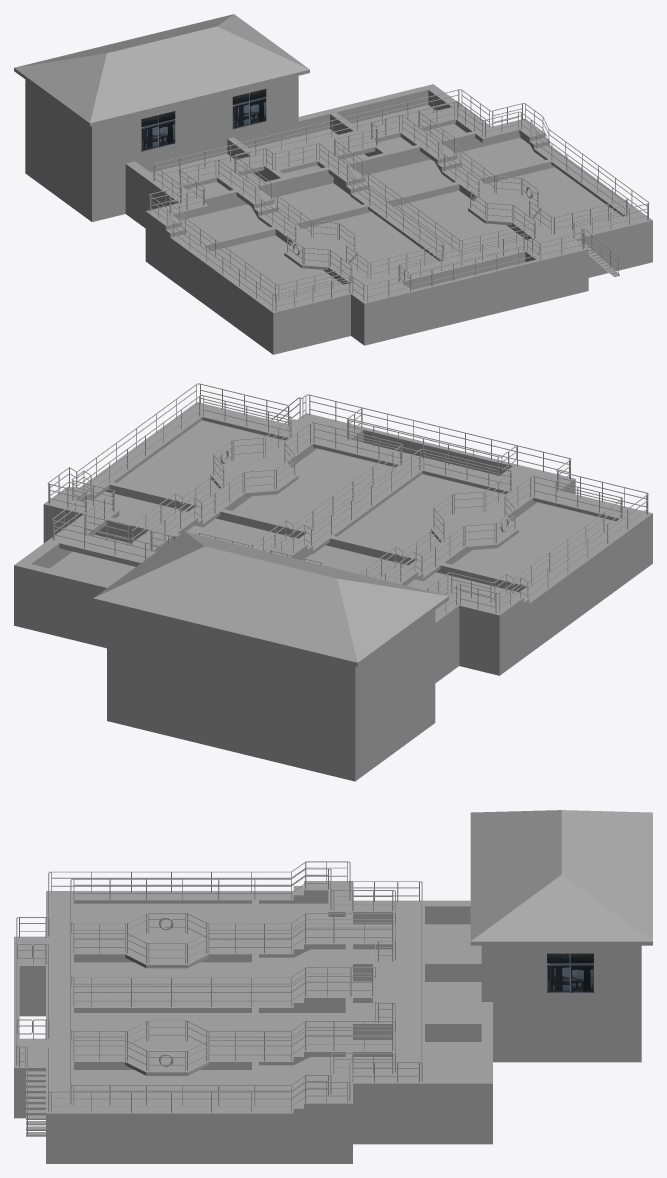
Rendered from GaoXiaoChenDianCHi.fbx.
3 renders of one model, top to bottom at view 1: azimuth 30°, elevation 25°; view 2: azimuth 150°, elevation 25°; view 3: azimuth 270°, elevation 25°, orthographic. The views are drawn at different scales.
Parts seen in each view (by area): view 1: ChiZi, Shui, FangZi, Wa, JinShuGan, Chuang, Chuang1; view 2: ChiZi, FangZi, Shui, Wa, JinShuGan; view 3: ChiZi, Shui, Wa, JinShuGan, FangZi, Chuang2, LouTi.
Boxes of the visible parts, x1,y1,x2,y2 form: ChiZi: [125, 84, 652, 354]; Shui: [151, 105, 621, 300]; FangZi: [25, 76, 298, 221]; Wa: [14, 14, 309, 126]; JinShuGan: [149, 89, 649, 311]; Chuang: [141, 111, 175, 151]; Chuang1: [232, 89, 266, 129]; ChiZi: [14, 402, 652, 682]; FangZi: [107, 605, 435, 781]; Shui: [50, 420, 615, 601]; Wa: [93, 531, 448, 666]; JinShuGan: [47, 383, 648, 614]; ChiZi: [14, 881, 492, 1163]; Shui: [74, 903, 481, 1104]; Wa: [470, 810, 652, 945]; JinShuGan: [16, 861, 422, 1134]; FangZi: [481, 945, 641, 1062]; Chuang2: [547, 953, 593, 992]; LouTi: [26, 1071, 45, 1136].
Bounding box in the file's own units: 1867 × 613 × 2225.
Materials: 10 (1 with a texture image).
